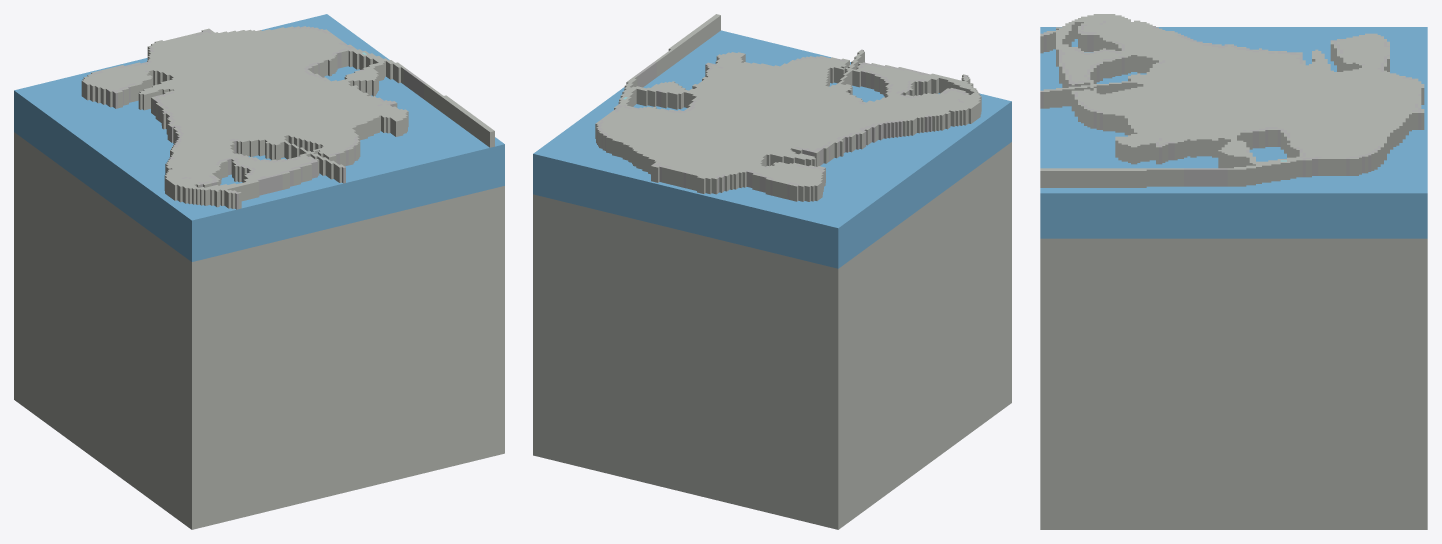
Rendered from 200612 macau mini map.obj.
The picture shows the model from 3 angles, left to right: view 1: azimuth 30°, elevation 25°; view 2: azimuth 150°, elevation 25°; view 3: azimuth 270°, elevation 25°; orthographic projection. The views are drawn at different scales.
Size of the model in its own units: 12.6 by 12.5 by 12.4.
1 material, 1 textured.
